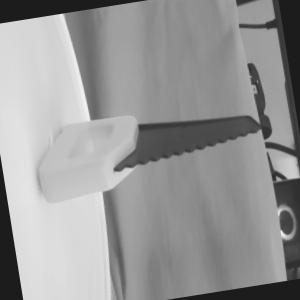serrote: (28, 90, 266, 206)
